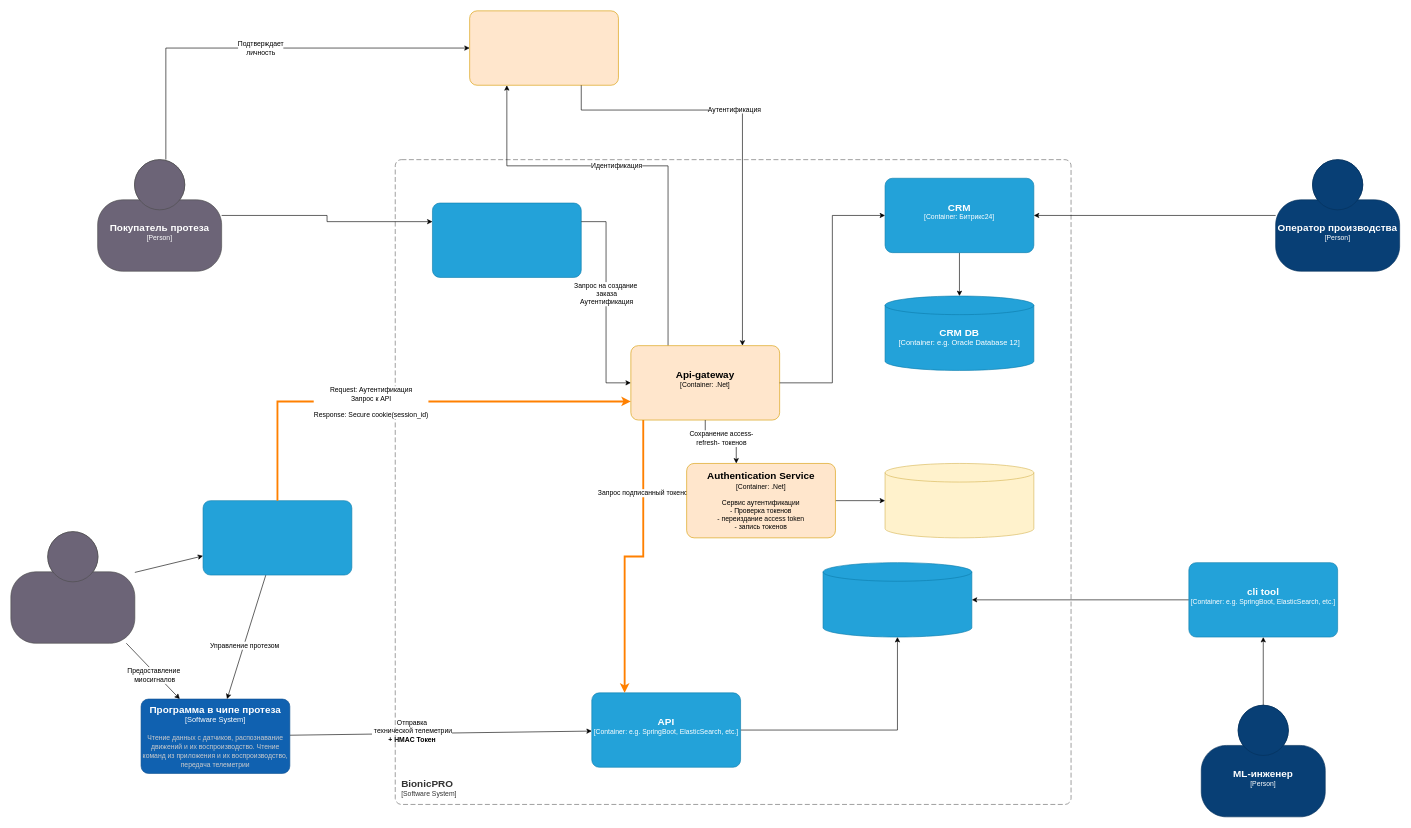
This 1411x828 diagram has some shape labels left out. Here are the shapes that lost their labels. From the top down, the centre of each, then its label:
At (x=543, y=47): "Region Idp [: Keyclock, OAuth] Региональный провайдер аутентификации".
At (x=506, y=239): "Интернет-магазин [Container: Битрикс24]".
At (x=959, y=500): "Authentication [Container: Redis] Хранение данных сессии/токенов/прочее".
At (x=277, y=537): "Приложение для донастройки протеза [Container: iOD, Android]".
At (x=72, y=587): "Пилот протеза [Person] С этого человека считываются данные".
At (x=897, y=599): "База данных [Container: PostgreSQL]".
